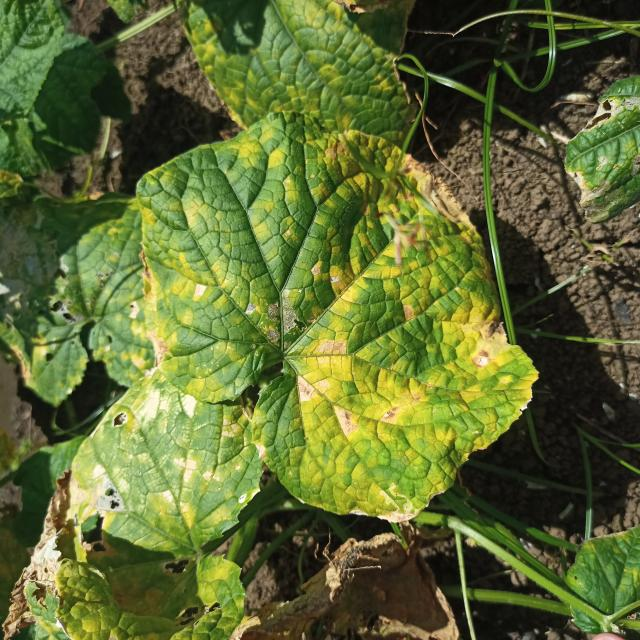disease_cucumber: (135, 108, 537, 522), (56, 391, 255, 576)
